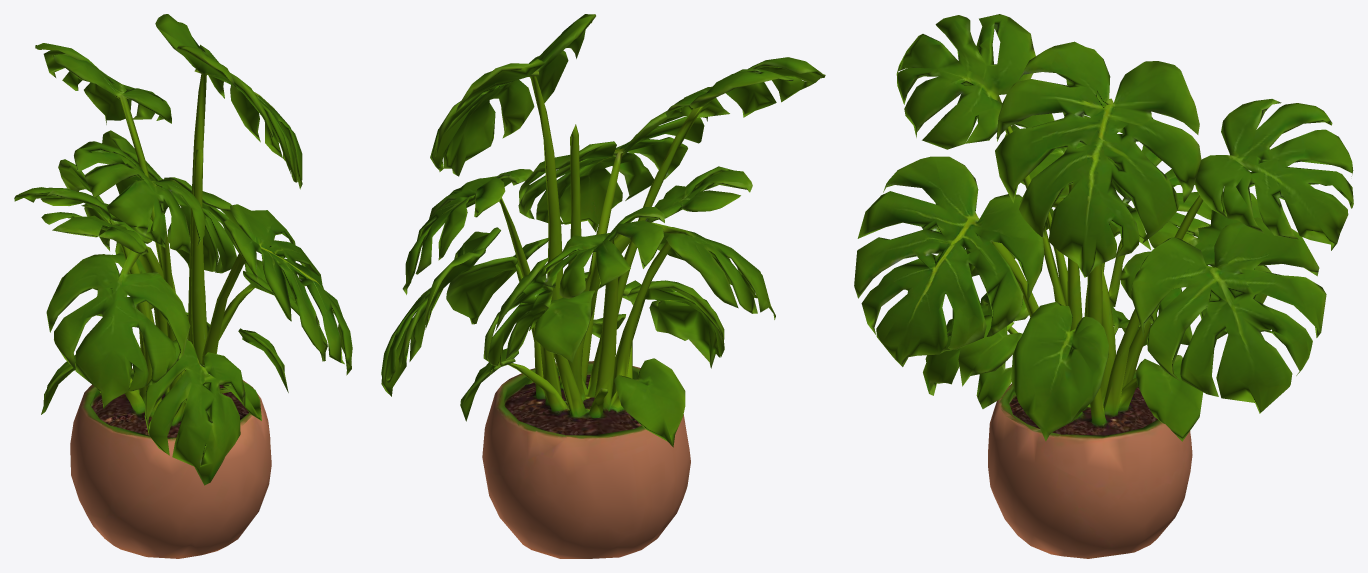
The model's file is planta.glb.
3 views of the same model, side by side, from view 1: azimuth 30°, elevation 25°; view 2: azimuth 150°, elevation 25°; view 3: azimuth 270°, elevation 25° (orthographic). The views are drawn at different scales.
Parts seen in each view (by area): view 1: tripo_node_fe9ce789-a5c8-47c1-bc14-d08b49dd4fee; view 2: tripo_node_fe9ce789-a5c8-47c1-bc14-d08b49dd4fee; view 3: tripo_node_fe9ce789-a5c8-47c1-bc14-d08b49dd4fee.
Part boxes in pixels (<box>): tripo_node_fe9ce789-a5c8-47c1-bc14-d08b49dd4fee: <box>14,14,352,558</box>; tripo_node_fe9ce789-a5c8-47c1-bc14-d08b49dd4fee: <box>381,14,825,558</box>; tripo_node_fe9ce789-a5c8-47c1-bc14-d08b49dd4fee: <box>854,14,1353,558</box>.
Bounding box in the file's own units: 0.6274 × 0.9998 × 0.9171.
Materials: 1 (1 with a texture image).
